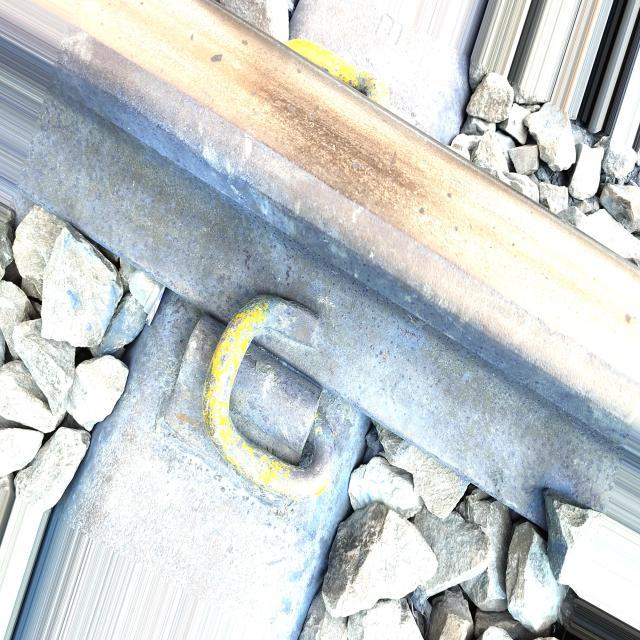Good Fasteners: (137, 270, 367, 514), (286, 39, 389, 107)
